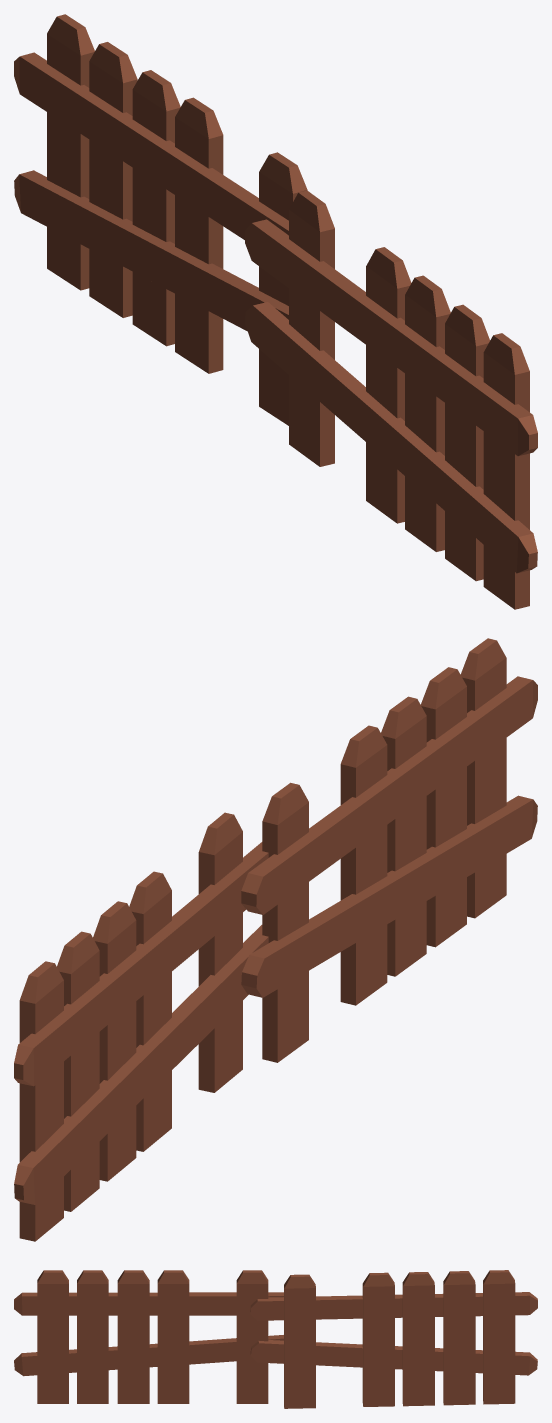
File: Fence.fbx
3 views of the same model, one above another, from view 1: azimuth 30°, elevation 25°; view 2: azimuth 150°, elevation 25°; view 3: azimuth 270°, elevation 25° (orthographic). The views are drawn at different scales.
Parts seen in each view (by area): view 1: Cube; view 2: Cube; view 3: Cube.
Part boxes in pixels (<box>): Cube: <box>14,14,537,609</box>; Cube: <box>14,638,537,1241</box>; Cube: <box>14,1270,537,1408</box>.
Size of the model in its own units: 43.15 by 218 by 790.
